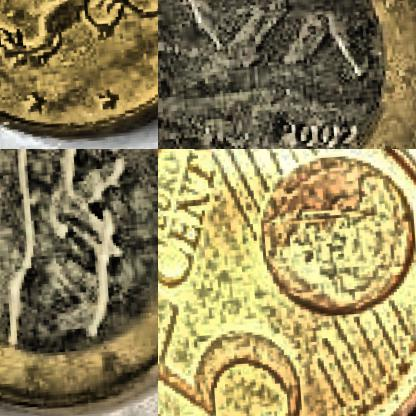coin: (158, 149, 415, 415), (0, 149, 157, 415), (158, 0, 415, 148), (0, 0, 157, 145)
